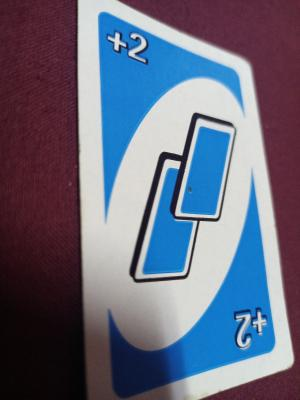-2: (100, 19, 154, 70), (228, 307, 278, 355)
blue: (91, 27, 274, 378)
